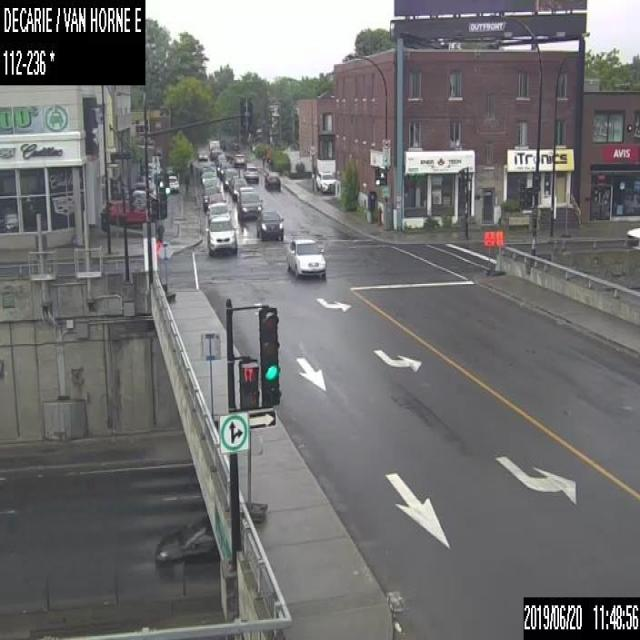construction: (240, 427, 267, 523), (200, 328, 221, 429), (156, 236, 174, 303), (494, 229, 504, 275), (483, 230, 493, 274)
vehicle: (152, 515, 221, 576), (286, 238, 324, 275), (204, 214, 236, 255), (101, 201, 150, 224), (255, 209, 283, 240), (238, 191, 262, 219), (205, 202, 232, 224), (201, 185, 222, 211), (236, 185, 254, 214), (316, 171, 334, 192), (624, 224, 639, 247), (232, 177, 247, 200), (264, 170, 281, 190), (130, 189, 156, 202), (205, 194, 223, 211), (243, 162, 258, 181), (222, 168, 236, 188), (199, 170, 214, 185), (209, 140, 219, 160), (232, 153, 246, 167), (218, 163, 230, 179), (216, 160, 227, 176), (167, 175, 178, 191), (197, 148, 207, 160), (215, 154, 226, 164)
